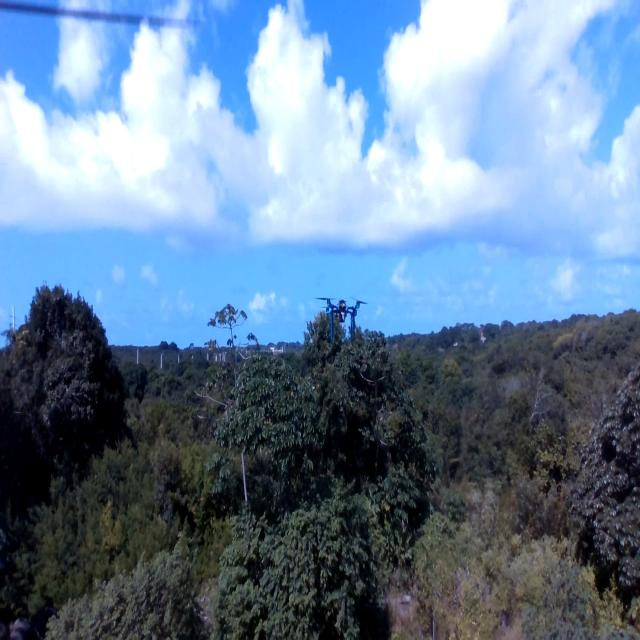-uav-: (317, 289, 368, 350)
